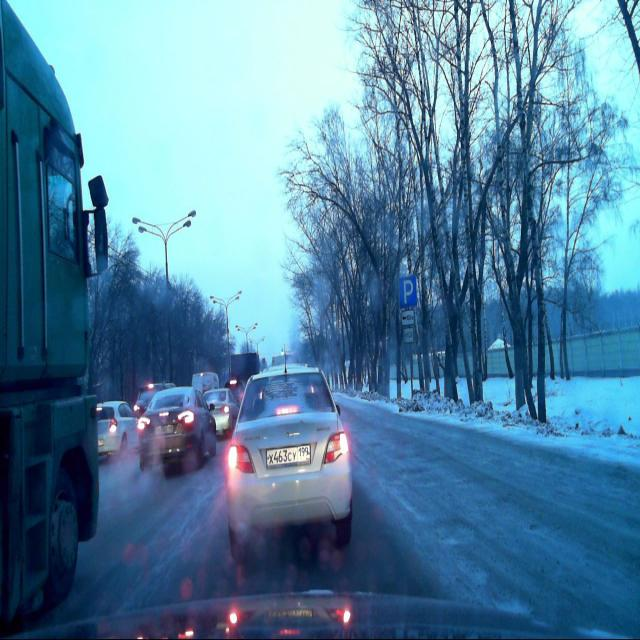road sign: (400, 276, 416, 306)
